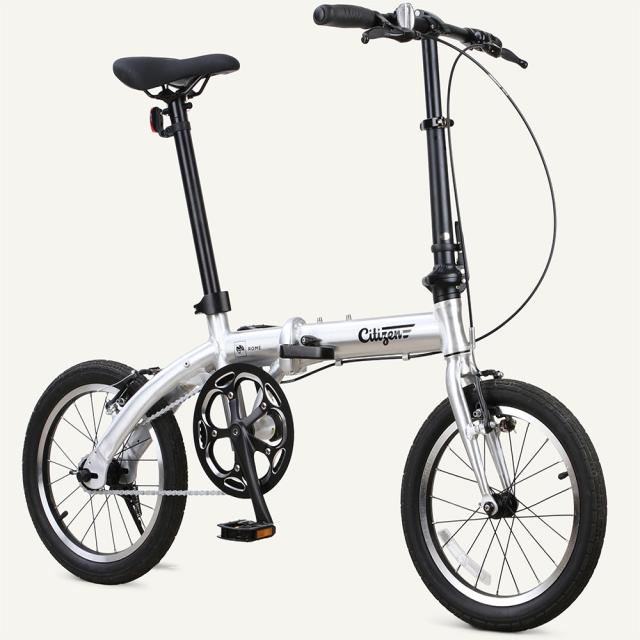folding-bike: (19, 1, 610, 634)
